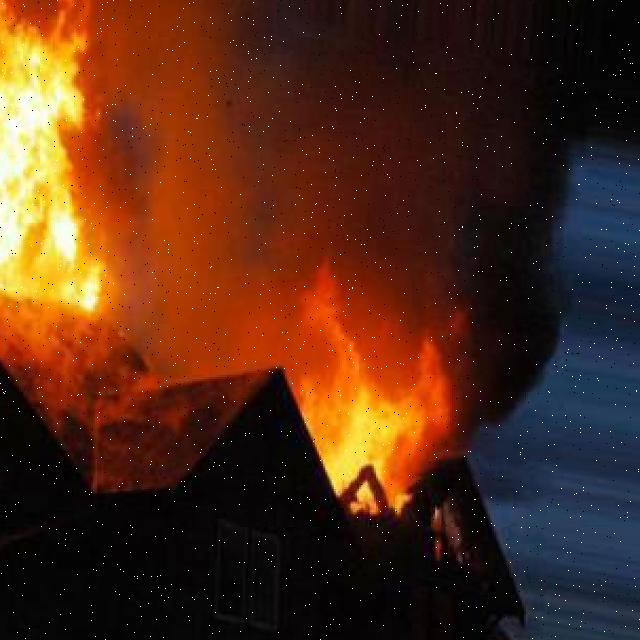fire: (264, 246, 448, 523)
smoke: (292, 8, 572, 418), (99, 0, 294, 375)
